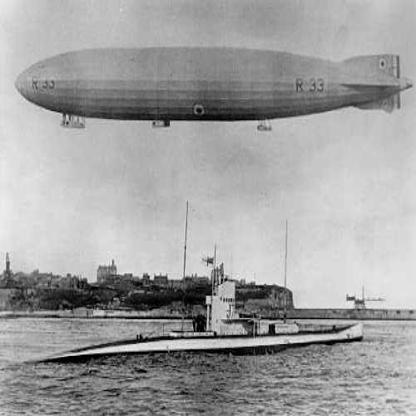Airship: (8, 40, 415, 146)
